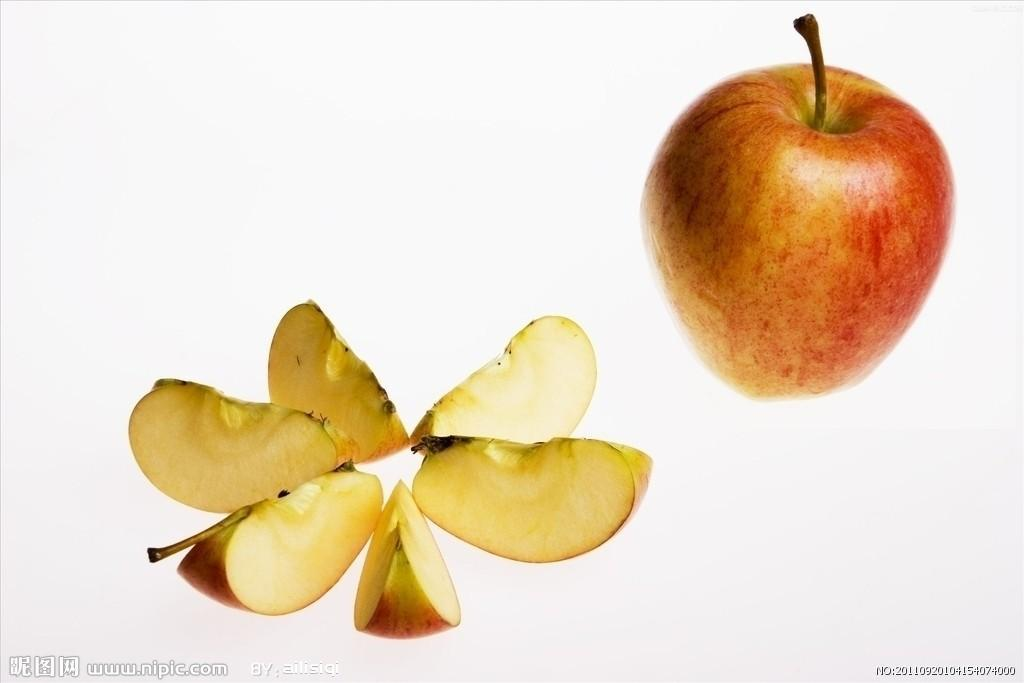apple: (637, 49, 953, 405)
